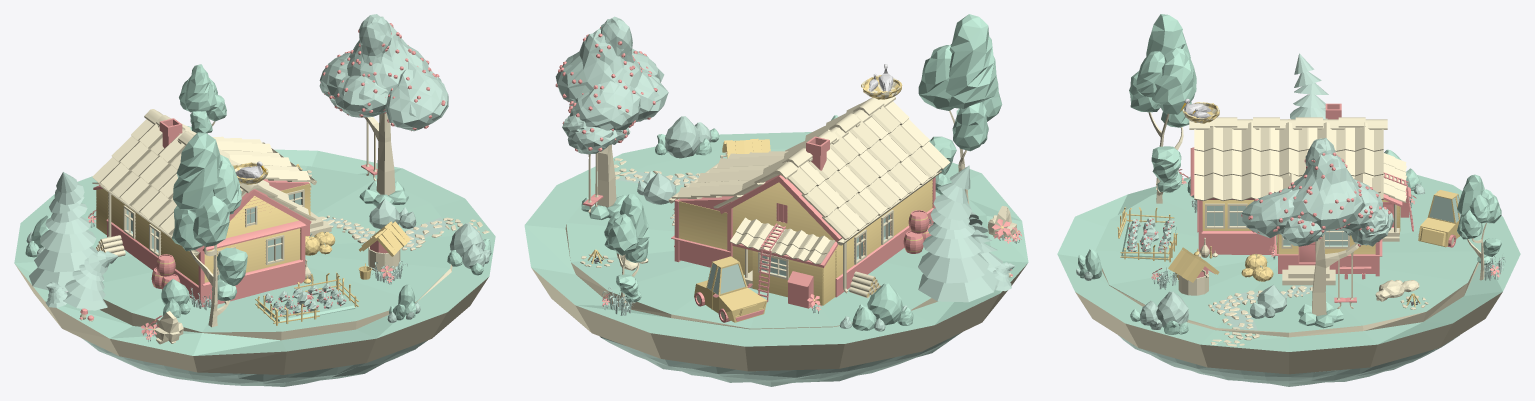
File: House_kal.glb
The picture shows the model from 3 angles, left to right: view 1: azimuth 30°, elevation 25°; view 2: azimuth 150°, elevation 25°; view 3: azimuth 270°, elevation 25°; orthographic projection. The views are drawn at different scales.
Parts seen in each view (by area): view 1: podstavka-elki2 (×2), House.1-Mat (×2), podstavka-Mat, Apple tree.1-elki, Birch-elki2, House.1-Mat.2, House.1-Mat.1, oblako, Birch.1-elki2, elka.2-elki, Apple tree.1-Mat, bushes sw (×2) (+19 smaller); view 2: podstavka-elki2 (×2), House.1-Mat (×2), podstavka-Mat, Apple tree.1-elki, House.1-Mat.1, Birch-elki2, House.1-Mat.2 (×2), oblako, Birch.1-elki2, bushes sw (×2), car.1-Mat.1, Cone.1 (+17 smaller); view 3: podstavka-elki2 (×2), House.1-Mat (×2), podstavka-Mat, Apple tree.1-elki, Birch-elki2, House.1-Mat.2 (×2), oblako, Birch.1-elki2, Apple tree.1-Mat, House.1-Mat.1, car.1-Mat.1, Extrude (+14 smaller).
Boxes of the visible parts, box(x1,y1,x2,y2) form: podstavka-elki2 (×2): box(14, 149, 495, 355); House.1-Mat (×2): box(92, 109, 331, 275); podstavka-Mat: box(15, 264, 488, 374); Apple tree.1-elki: box(319, 14, 448, 131); Birch-elki2: box(172, 132, 247, 300); House.1-Mat.2: box(93, 118, 311, 307); House.1-Mat.1: box(96, 183, 310, 285); oblako: box(82, 338, 427, 386); Birch.1-elki2: box(179, 64, 226, 133); elka.2-elki: box(63, 250, 118, 310); Apple tree.1-Mat: box(365, 113, 395, 195); bushes sw (×2): box(161, 223, 485, 305); podstavka-elki2 (×2): box(524, 132, 1028, 346); House.1-Mat (×2): box(668, 96, 950, 293); podstavka-Mat: box(531, 224, 1026, 371); Apple tree.1-elki: box(555, 16, 668, 154); House.1-Mat.1: box(677, 179, 932, 305); Birch-elki2: box(918, 14, 1002, 194); House.1-Mat.2 (×2): box(671, 136, 935, 308); oblako: box(599, 332, 961, 386); Birch.1-elki2: box(604, 193, 649, 302); bushes sw (×2): box(665, 116, 902, 325); car.1-Mat.1: box(694, 256, 767, 322); Cone.1: box(918, 252, 989, 283); podstavka-elki2 (×2): box(1057, 175, 1520, 351); House.1-Mat (×2): box(1189, 117, 1406, 285); podstavka-Mat: box(1075, 262, 1502, 374); Apple tree.1-elki: box(1242, 138, 1393, 246); Birch-elki2: box(1129, 14, 1196, 192); House.1-Mat.2 (×2): box(1190, 103, 1413, 279); oblako: box(1118, 335, 1459, 386); Birch.1-elki2: box(1457, 174, 1501, 265); Apple tree.1-Mat: box(1312, 234, 1358, 315); House.1-Mat.1: box(1202, 200, 1400, 254); car.1-Mat.1: box(1418, 190, 1459, 247); Extrude: box(1208, 285, 1312, 346).
Bounding box in the file's own units: 21.44 × 13.96 × 21.1.
